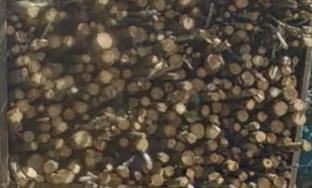medium: (27, 154, 44, 171), (74, 131, 90, 147), (97, 33, 112, 49), (206, 55, 221, 70), (43, 160, 58, 174), (275, 102, 289, 117), (290, 99, 304, 114), (47, 35, 62, 48), (190, 124, 203, 138), (102, 86, 115, 100), (129, 28, 143, 41), (240, 72, 253, 85), (292, 114, 305, 127), (283, 87, 296, 100), (59, 169, 72, 182), (27, 60, 40, 73), (181, 151, 193, 165), (74, 102, 88, 114), (205, 126, 220, 137), (149, 88, 162, 100), (270, 121, 283, 133), (169, 55, 182, 67), (87, 83, 99, 95), (191, 79, 203, 91), (47, 104, 59, 116), (60, 146, 72, 158), (252, 90, 264, 102), (236, 109, 247, 122), (149, 175, 162, 186), (164, 124, 175, 137), (99, 70, 110, 82), (283, 75, 295, 86), (116, 166, 127, 178), (77, 23, 88, 35), (9, 110, 21, 121), (26, 89, 38, 100), (101, 50, 113, 61), (112, 80, 123, 92), (26, 106, 37, 118), (229, 64, 240, 75), (137, 140, 148, 151), (226, 159, 237, 170), (258, 80, 269, 91), (254, 131, 265, 142), (53, 138, 64, 149), (211, 103, 223, 113), (163, 167, 175, 177), (63, 36, 73, 48), (233, 0, 247, 8), (302, 141, 312, 152), (23, 131, 33, 142), (63, 109, 74, 119), (117, 119, 127, 130), (253, 55, 263, 66), (16, 100, 27, 110), (258, 179, 270, 188), (207, 140, 216, 152), (126, 84, 138, 93), (183, 19, 193, 29), (257, 111, 267, 121), (159, 153, 169, 163), (230, 86, 240, 96), (157, 103, 167, 113), (175, 103, 184, 114), (274, 178, 285, 187), (185, 133, 194, 143), (201, 105, 209, 116), (165, 140, 174, 149), (122, 69, 131, 78), (181, 81, 190, 90), (119, 137, 127, 147), (175, 141, 183, 151), (246, 100, 253, 109), (225, 26, 232, 34)
small: (141, 98, 151, 106), (197, 70, 205, 78), (263, 159, 271, 167), (32, 141, 39, 150), (185, 48, 193, 55), (6, 26, 13, 34), (47, 90, 54, 98), (18, 179, 25, 186), (41, 134, 48, 141), (210, 116, 216, 123), (82, 75, 88, 82), (195, 157, 201, 164), (11, 15, 18, 21), (48, 150, 54, 156), (240, 130, 247, 135), (211, 155, 216, 162), (38, 106, 43, 112), (258, 48, 263, 54), (234, 124, 239, 130), (224, 12, 229, 18), (239, 174, 245, 179), (71, 87, 76, 92), (246, 63, 251, 68), (83, 56, 88, 61), (87, 65, 92, 70), (15, 23, 19, 28), (221, 140, 226, 144), (89, 22, 93, 27), (158, 35, 163, 39), (83, 115, 87, 119), (9, 103, 12, 107)
